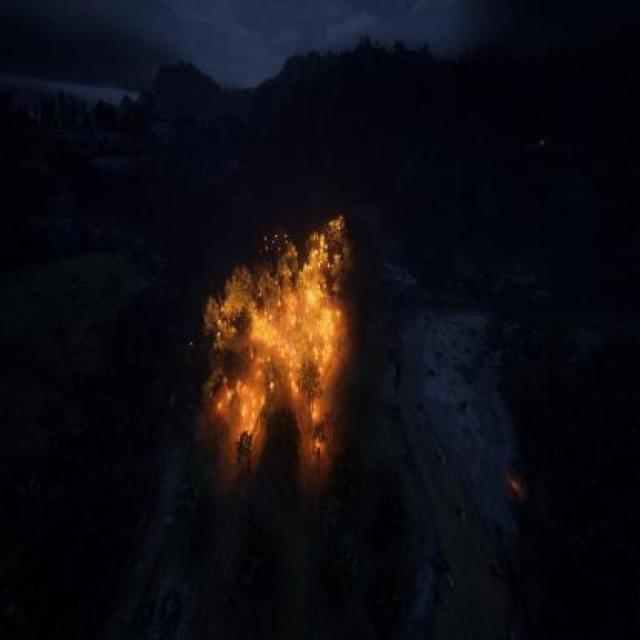Fire: (258, 216, 354, 458), (192, 288, 260, 474), (506, 469, 526, 506)
